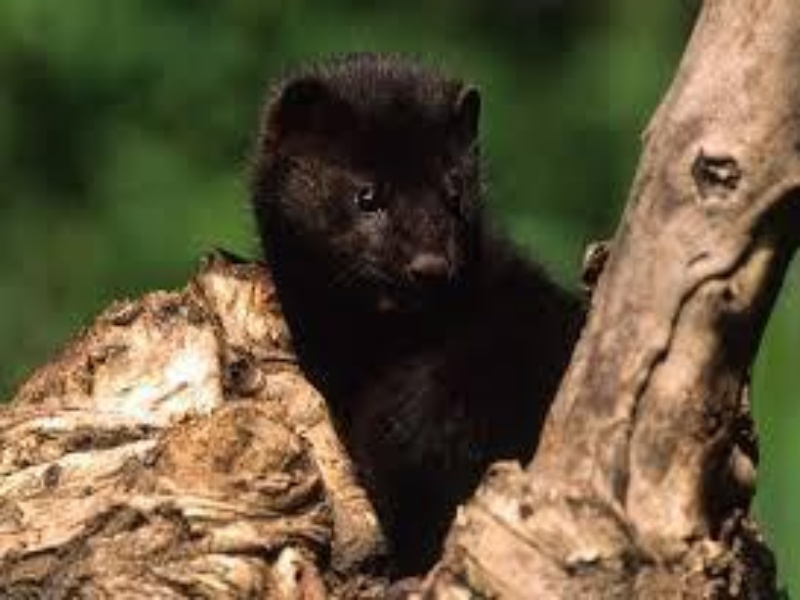minkish: (250, 59, 602, 553)
